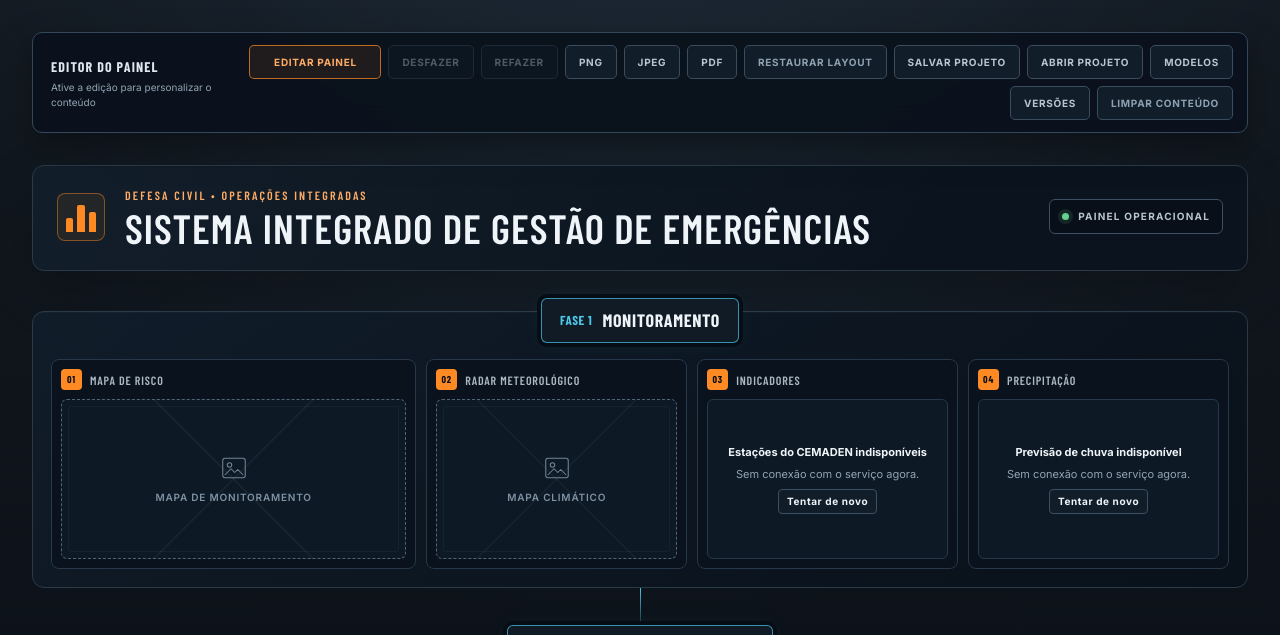
Test: giro, espelhamento e cópia de ajustes (tela) › não aplica a todas se a pessoa cancelar, e desativa com uma foto só
What coordinates should you click on to do the following:
click the button "ABRIR PROJETO"
I would click on:
 (1085, 62)
Its box is [1027,45,1143,79].
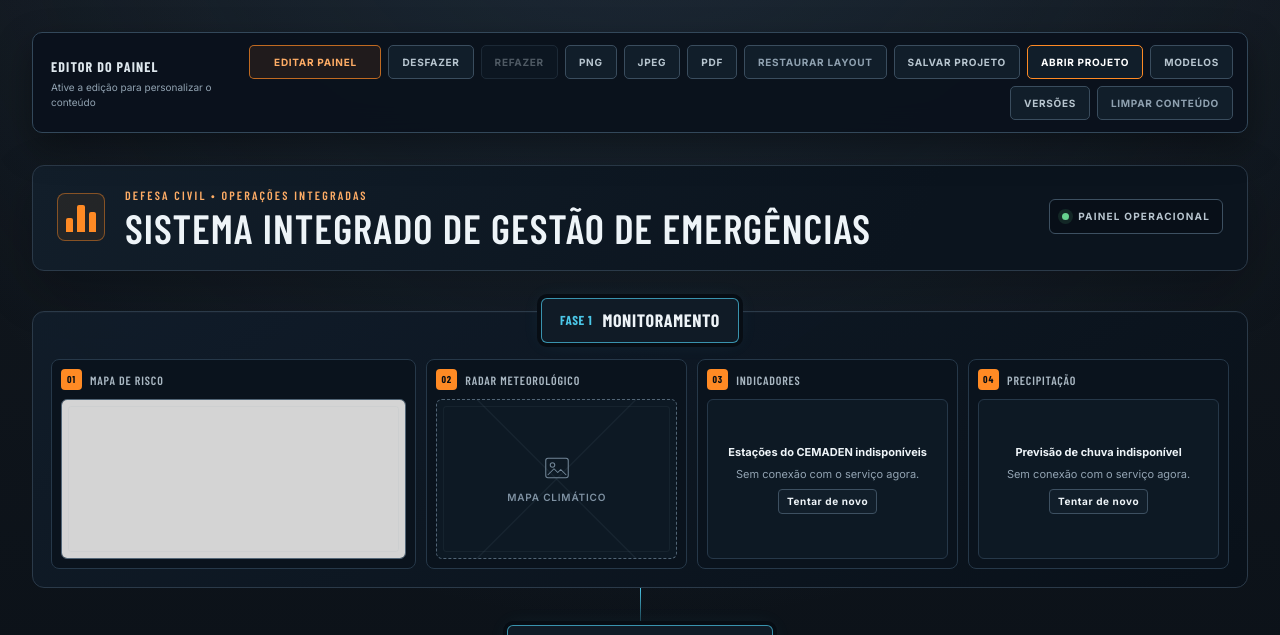
What coordinates should you click on to do the following:
click the button "EDITAR PAINEL"
I would click on:
 (316, 62)
Its box is [250,45,382,79].
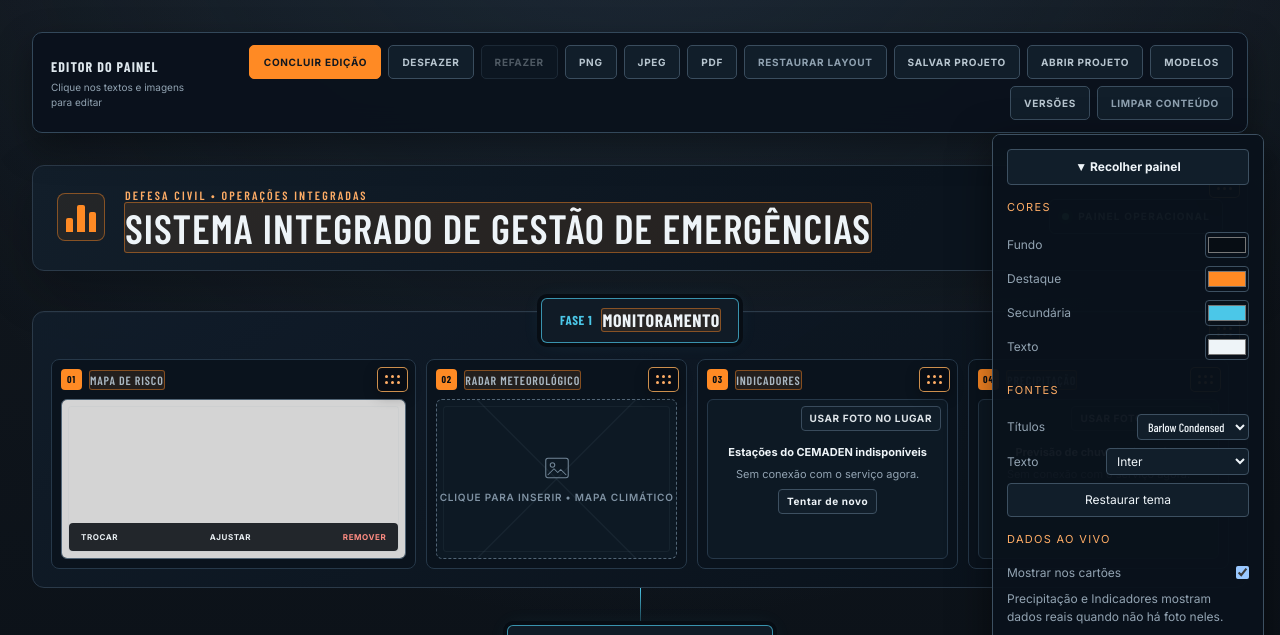
What coordinates should you click on to do the following:
click the button "AJUSTAR"
I would click on:
 (230, 537)
Its box is [206,529,255,545].
(page scrolled)
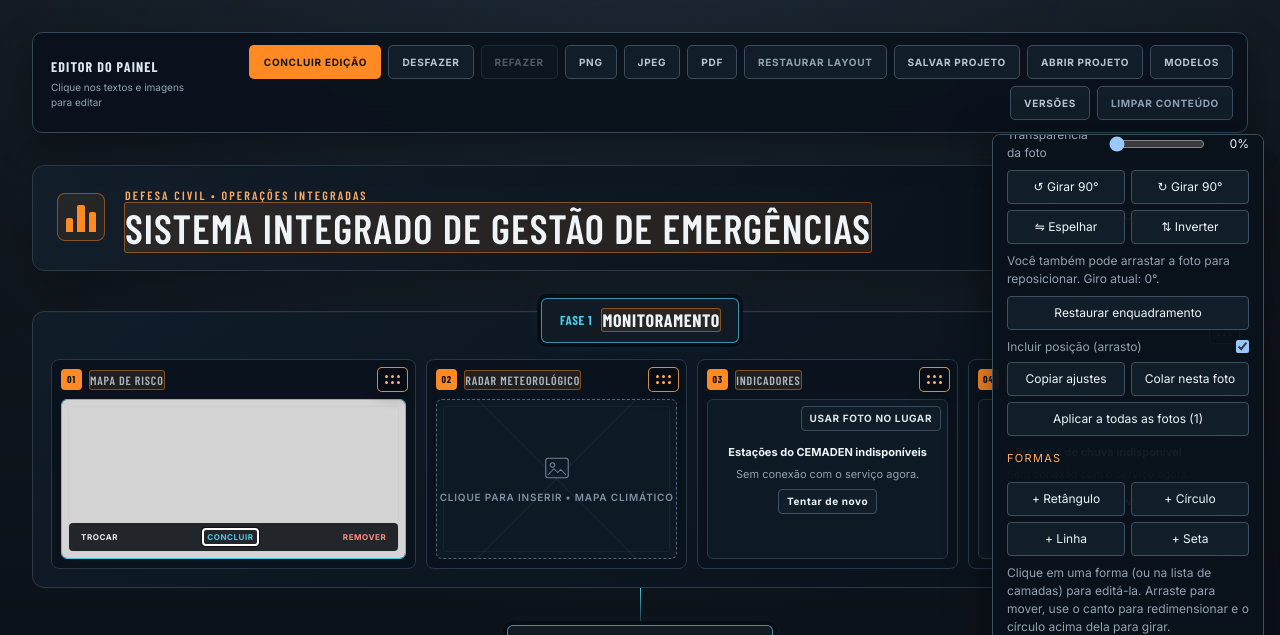
Now the button "Aplicar a todas as fotos (1)" is disabled, box [1007,402,1249,436]
